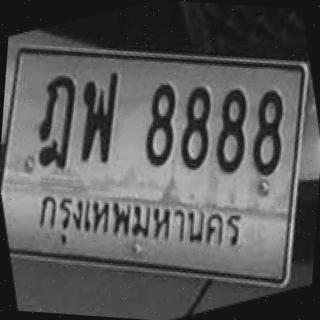A14: (28, 60, 82, 183)
A31: (78, 63, 124, 172)
P04: (29, 188, 256, 258)
